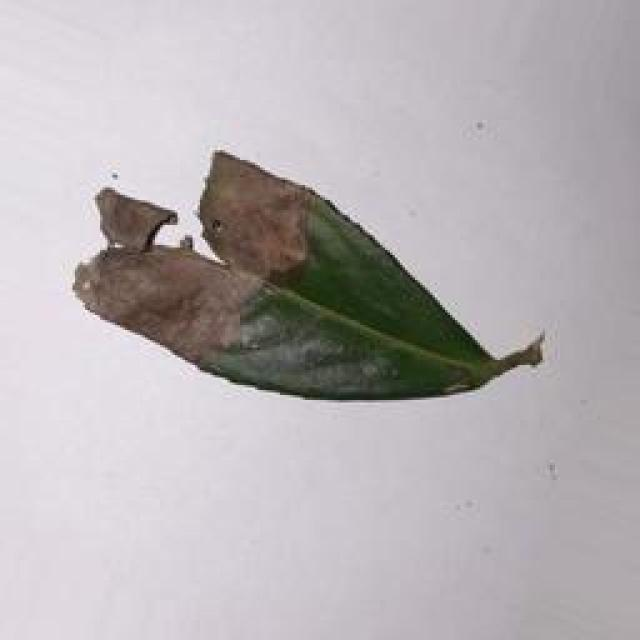Brown Blight: (60, 135, 559, 428)
